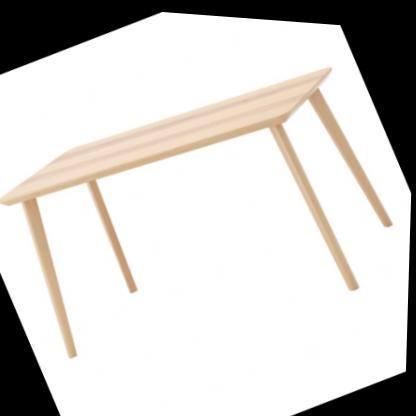Table: (0, 19, 416, 416)
